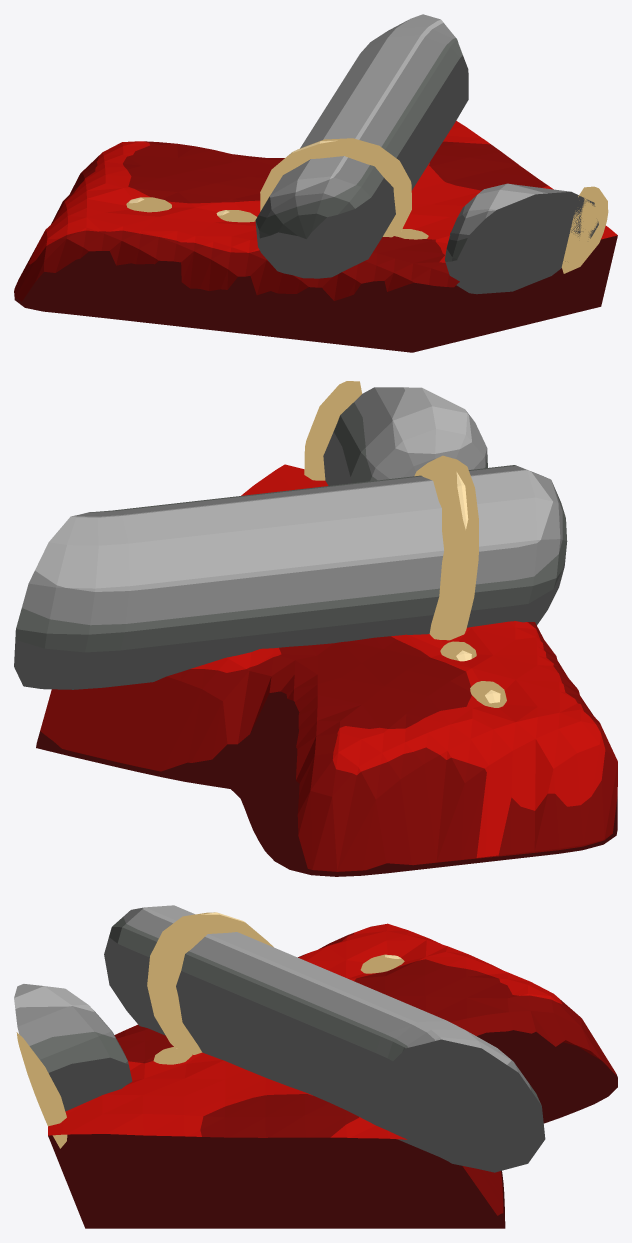
File: strawberry_wing_tl.glb
The picture shows the model from 3 angles, top to bottom: view 1: azimuth 30°, elevation 25°; view 2: azimuth 150°, elevation 25°; view 3: azimuth 270°, elevation 25°; orthographic projection. The views are drawn at different scales.
Visible parts, largest first — view 1: strawberry_wing_tl; view 2: strawberry_wing_tl; view 3: strawberry_wing_tl.
Boxes of the visible parts, x1,y1,x2,y2 form: strawberry_wing_tl: (14, 14, 617, 352); strawberry_wing_tl: (14, 381, 617, 876); strawberry_wing_tl: (14, 905, 617, 1228).
Size of the model in its own units: 23.87 by 9.55 by 25.89.
